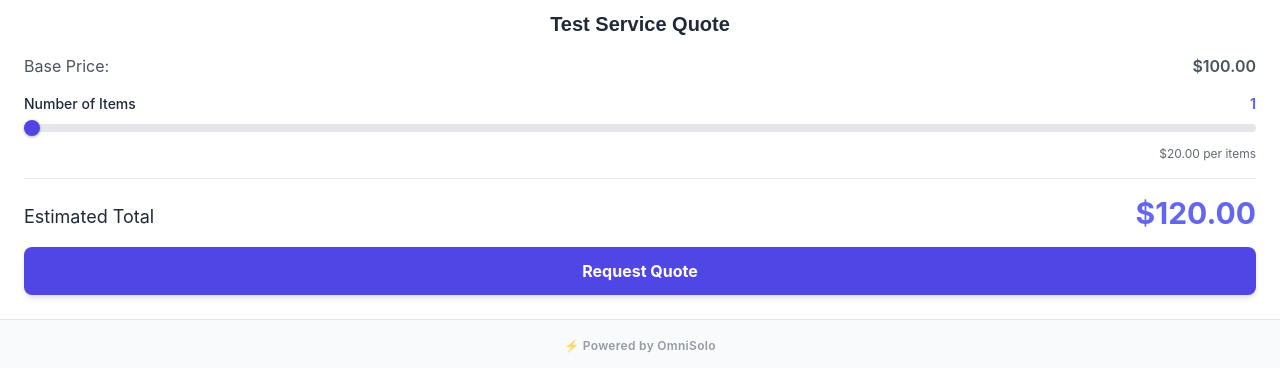
Test: QuoteCalculatorPage › calculates total correctly when quantity changes
Expected: the text "$120.00" is shown, [1136,195,1256,231]
Set the slider to "5" at (81, 128), box [24,124,1256,132]
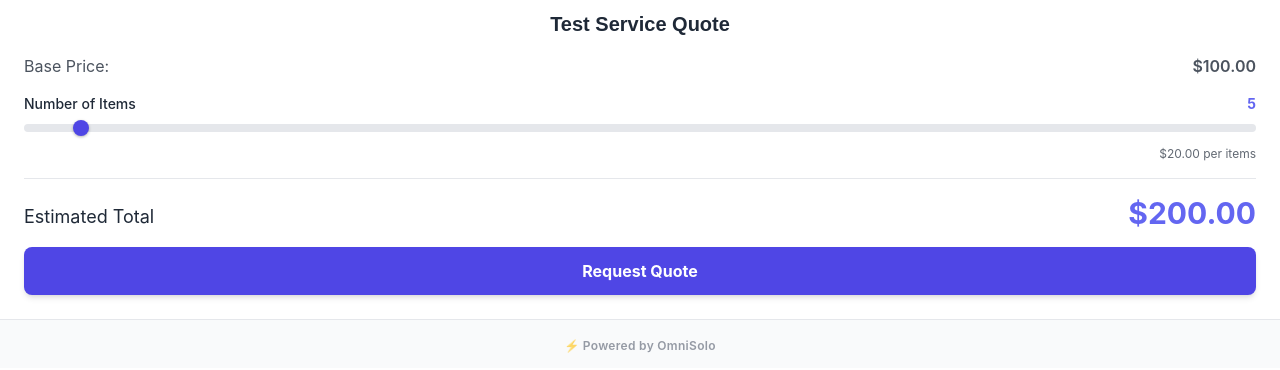
Expected: the text "$200.00" is shown, [1128,195,1256,231]
